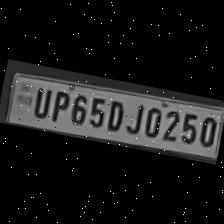0: (195, 112, 220, 148), (139, 102, 163, 139)
2: (159, 106, 182, 143)
5: (176, 108, 200, 145), (86, 92, 108, 130)
6: (66, 90, 90, 127)
D: (102, 96, 127, 133)
J: (122, 99, 146, 138)
P: (48, 86, 72, 124)
U: (28, 82, 52, 120)
